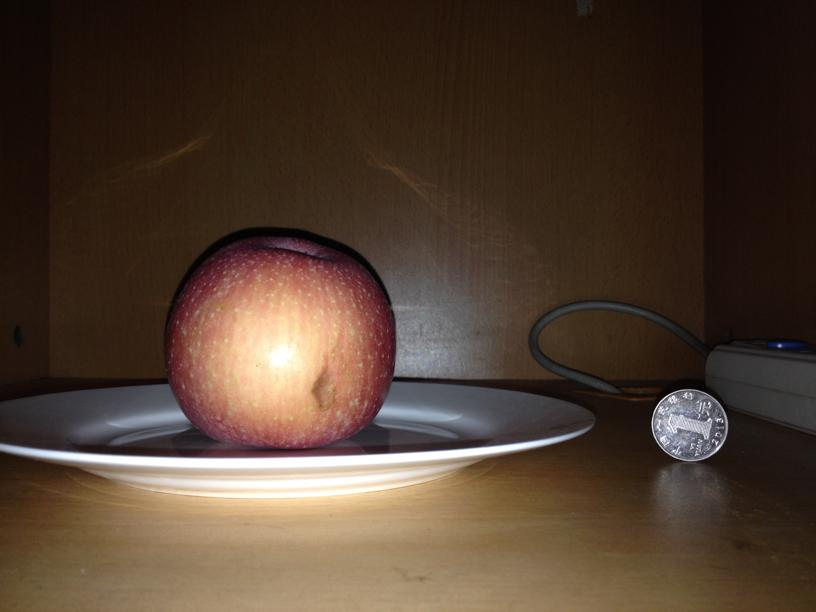apple: (173, 239, 398, 445)
coin: (651, 386, 729, 463)
